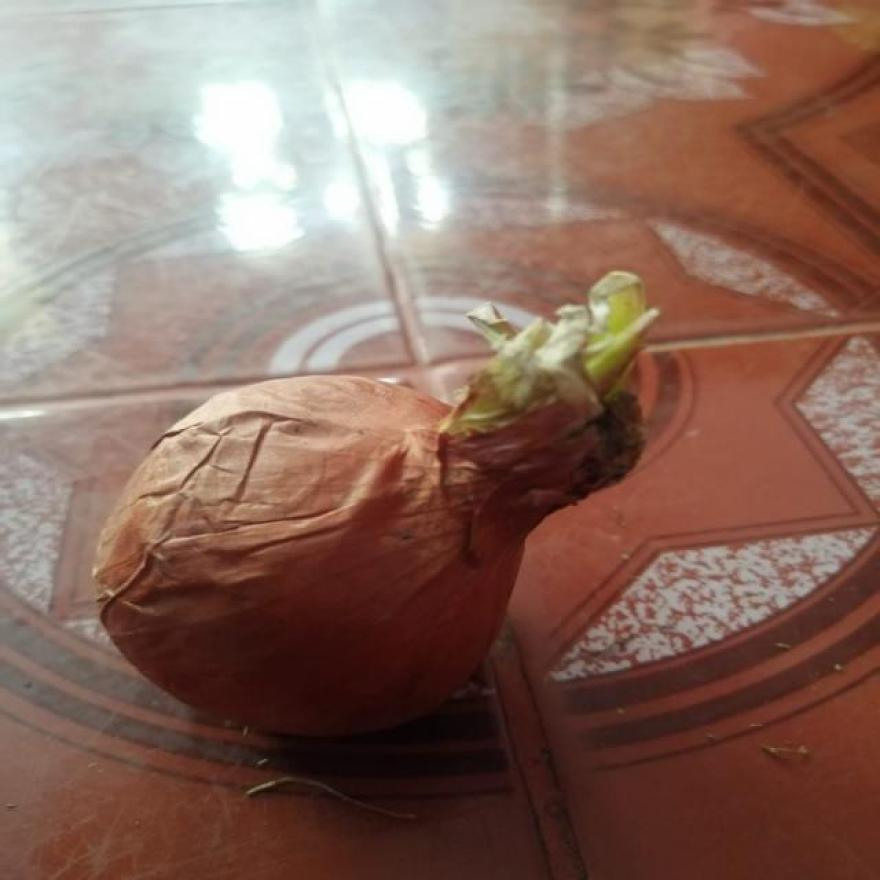Sprouted: (463, 296, 658, 423)
